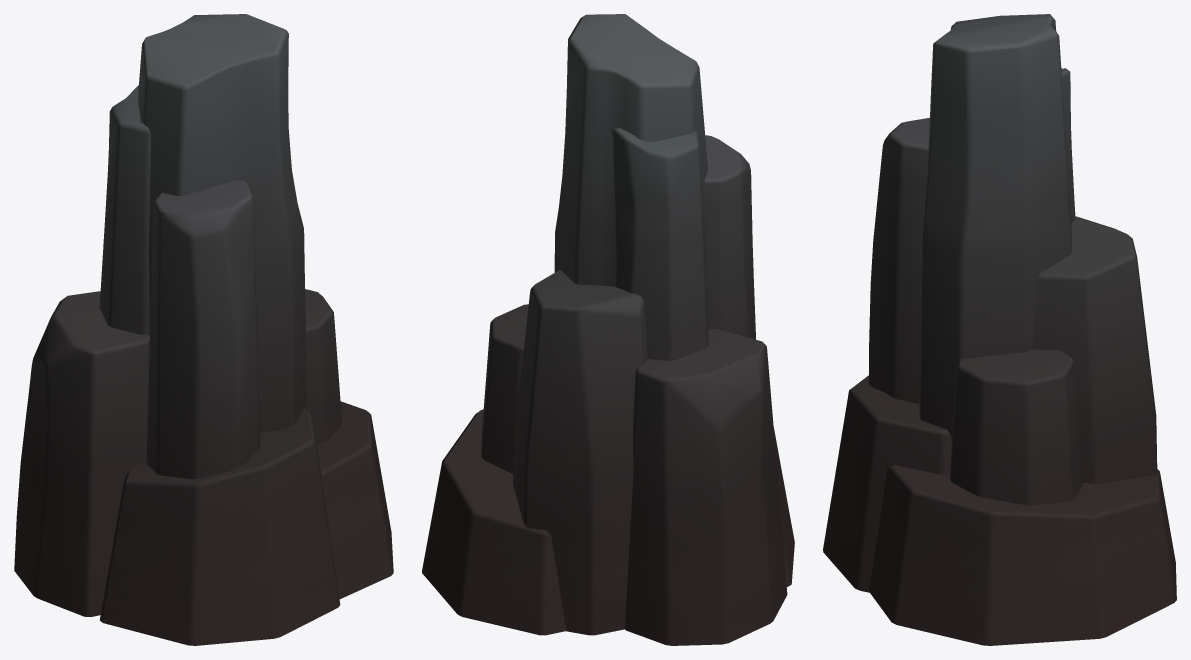
File: inferno-rock-big-001.glb
3 views of the same model, side by side, from view 1: azimuth 30°, elevation 25°; view 2: azimuth 150°, elevation 25°; view 3: azimuth 270°, elevation 25° (orthographic).
Parts seen in each view (by area): view 1: RockBig_001; view 2: RockBig_001; view 3: RockBig_001.
Part boxes in pixels (left/top/right/bottom): RockBig_001: left=14, top=14, right=393, bottom=645; RockBig_001: left=422, top=14, right=794, bottom=645; RockBig_001: left=823, top=14, right=1176, bottom=645.
Bounding box in the file's own units: 22.77 × 35.03 × 20.71.
Materials: 1 (1 with a texture image).
